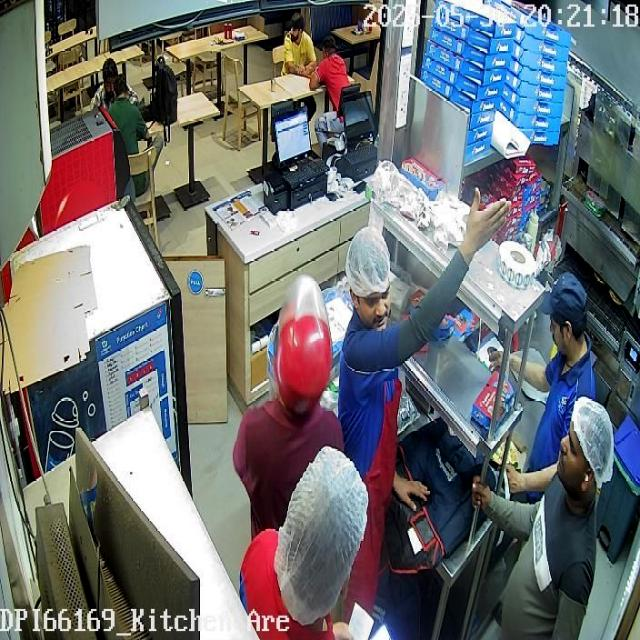no_helmet: (269, 276, 333, 424)
